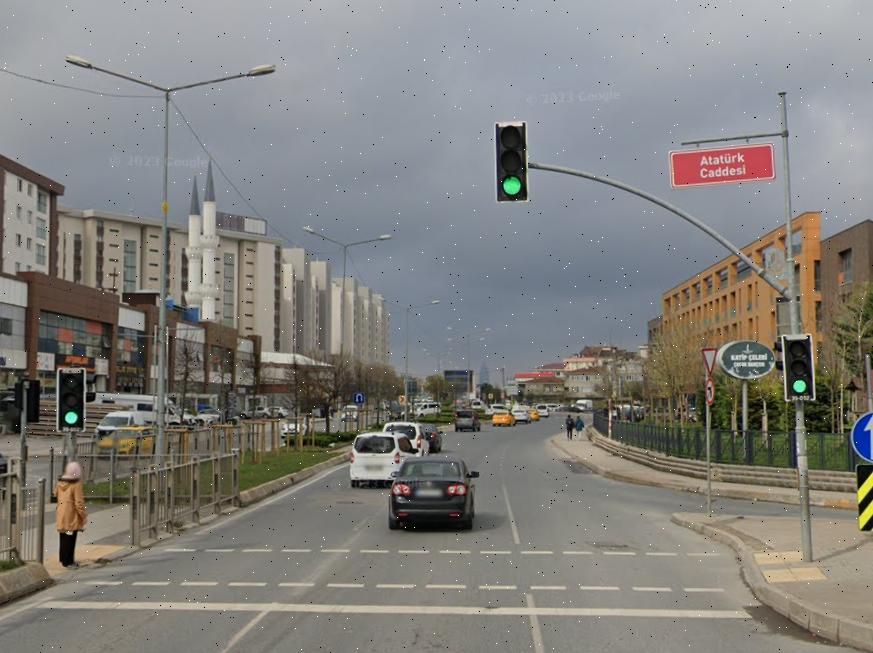greenlight: (497, 124, 526, 199), (784, 337, 814, 398), (59, 370, 84, 428)
leftturnsareforbidden: (706, 378, 716, 404)
